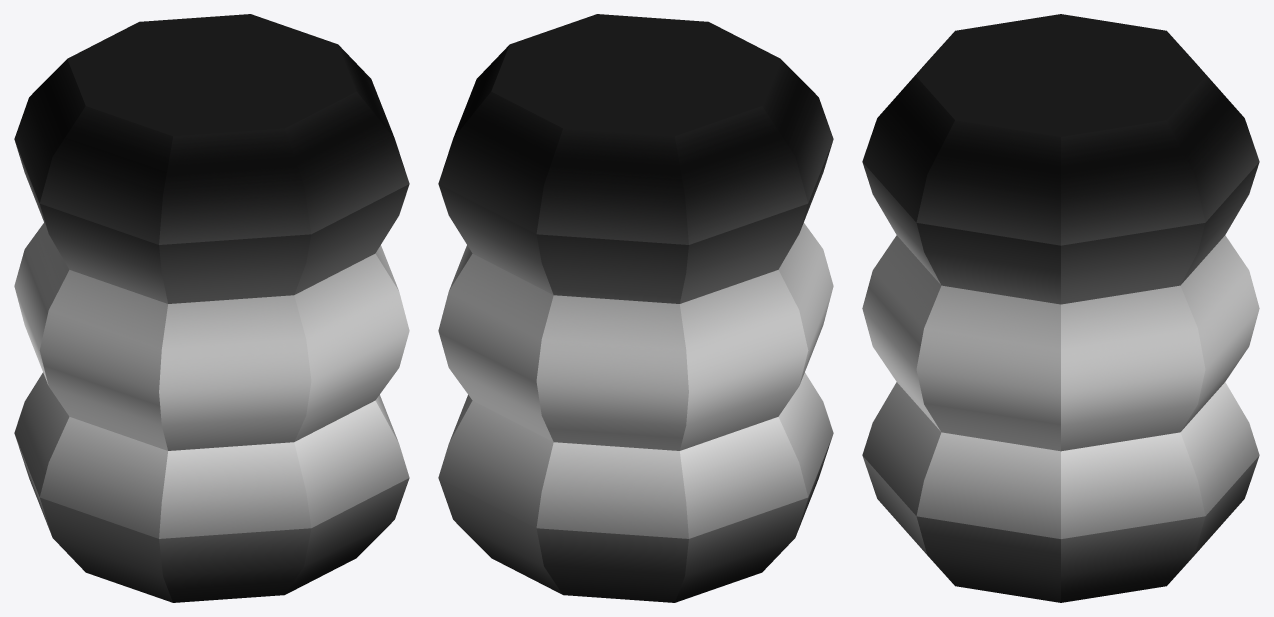
Rendered from lampion.fbx.
3 renders of one model, left to right at view 1: azimuth 30°, elevation 25°; view 2: azimuth 150°, elevation 25°; view 3: azimuth 270°, elevation 25°, orthographic.
Visible parts, largest first — view 1: Cube; view 2: Cube; view 3: Cube.
Boxes of the visible parts, box(x1,y1,x2,y2) form: Cube: box(14, 14, 409, 602); Cube: box(438, 14, 833, 602); Cube: box(862, 14, 1259, 602).
Bounding box in the file's own units: 333 × 431 × 333.
1 material, 1 textured.
